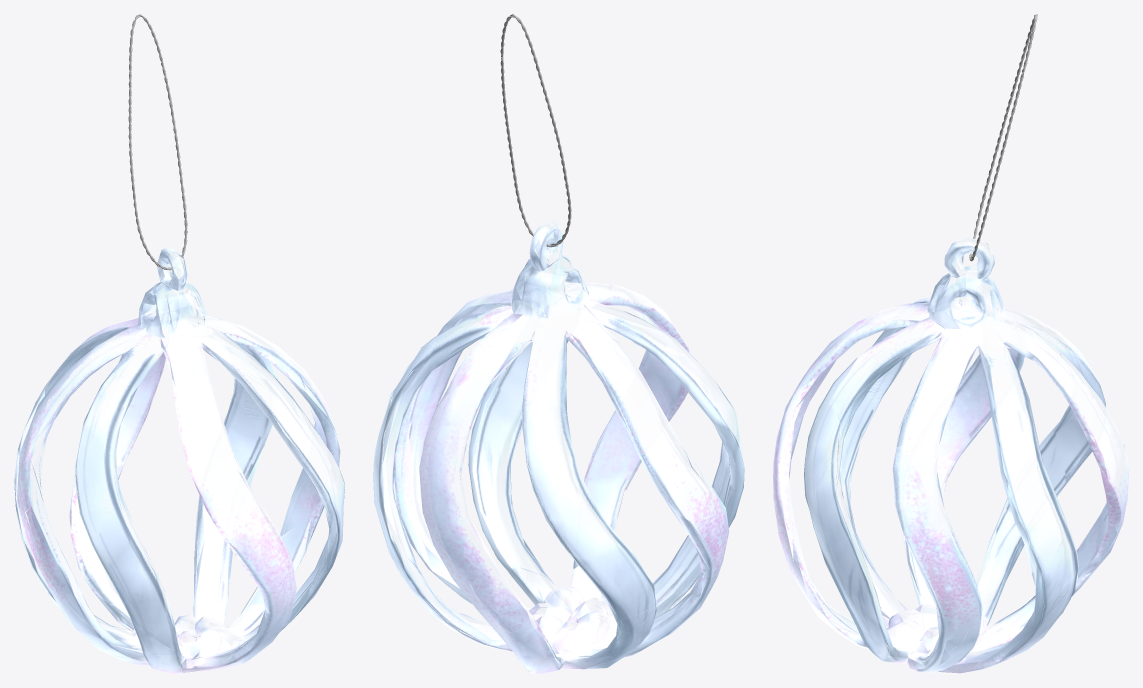
The picture shows the model from 3 angles, left to right: view 1: azimuth 30°, elevation 25°; view 2: azimuth 150°, elevation 25°; view 3: azimuth 270°, elevation 25°; orthographic projection. The views are drawn at different scales.
Visible parts, largest first — view 1: Mesh10, GN Instance; view 2: Mesh10, GN Instance; view 3: Mesh10, GN Instance.
Part boxes in pixels (left/top/right/bottom): Mesh10: left=14, top=247, right=344, bottom=673; GN Instance: left=128, top=14, right=187, bottom=270; Mesh10: left=373, top=221, right=744, bottom=673; GN Instance: left=500, top=14, right=571, bottom=247; Mesh10: left=773, top=238, right=1128, bottom=673; GN Instance: left=969, top=14, right=1037, bottom=261.
Bounding box in the file's own units: 0.0763 × 0.1524 × 0.0759.
Materials: 2 (1 with a texture image).
